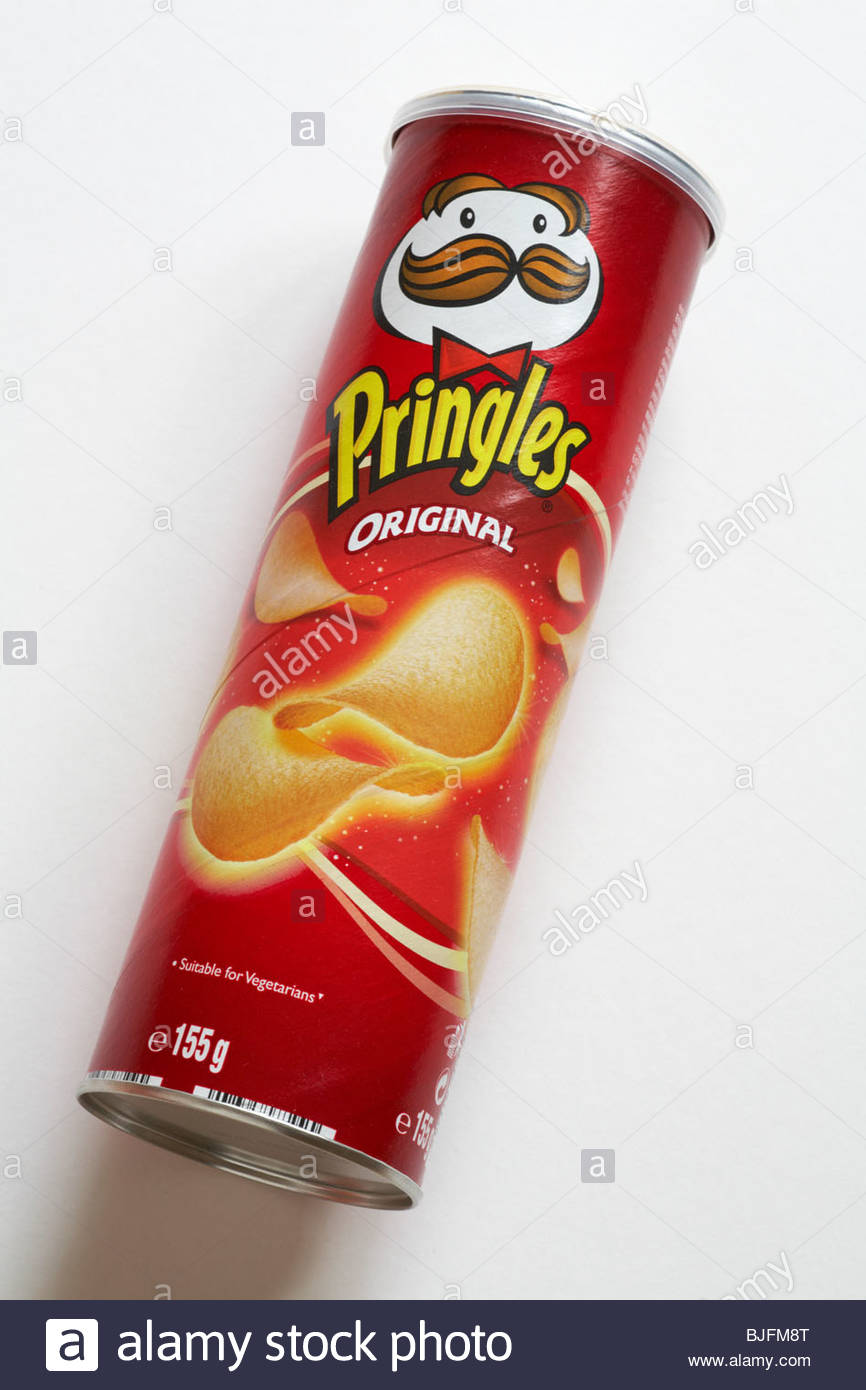pringle: (70, 58, 737, 1220)
